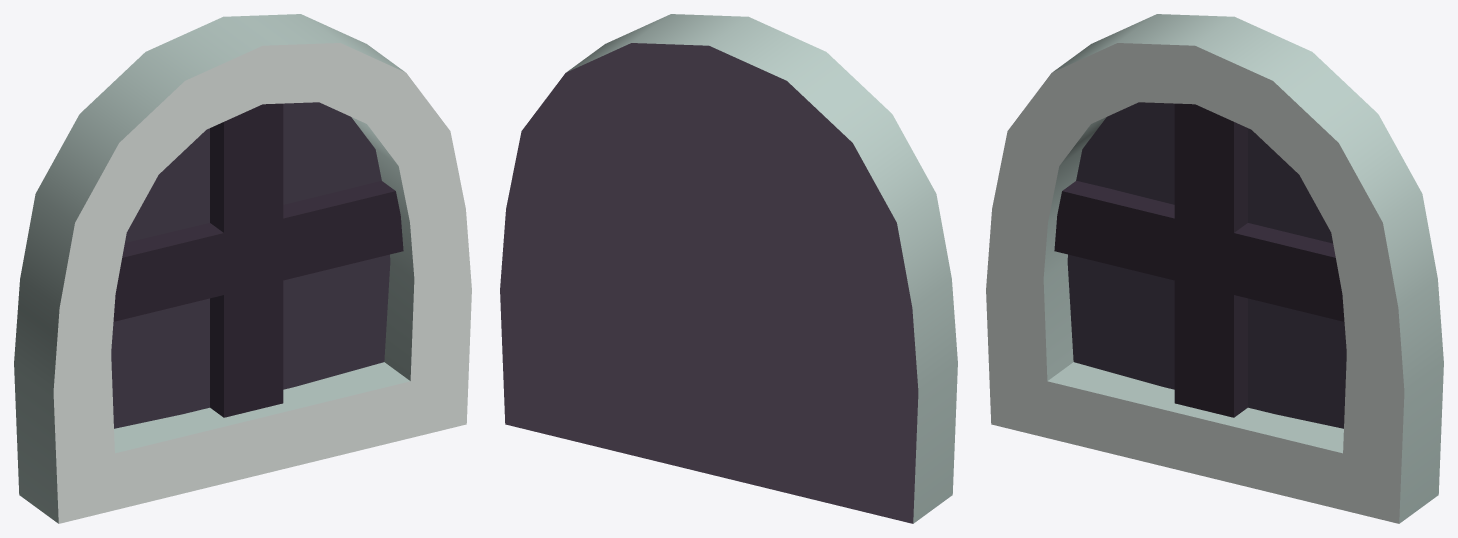
File: SmallWindow01_White_Black.glb
The picture shows the model from 3 angles, left to right: view 1: azimuth 30°, elevation 25°; view 2: azimuth 150°, elevation 25°; view 3: azimuth 330°, elevation 25°; orthographic projection.
Visible parts, largest first — view 1: SmallWindow01_White_Black; view 2: SmallWindow01_White_Black; view 3: SmallWindow01_White_Black.
Part boxes in pixels (x1,y1,x2,y2): SmallWindow01_White_Black: (14, 14, 471, 523); SmallWindow01_White_Black: (500, 14, 957, 523); SmallWindow01_White_Black: (986, 14, 1443, 523).
Bounding box in the file's own units: 0.5801 × 0.5676 × 0.0949.
Materials: 1 (1 with a texture image).
